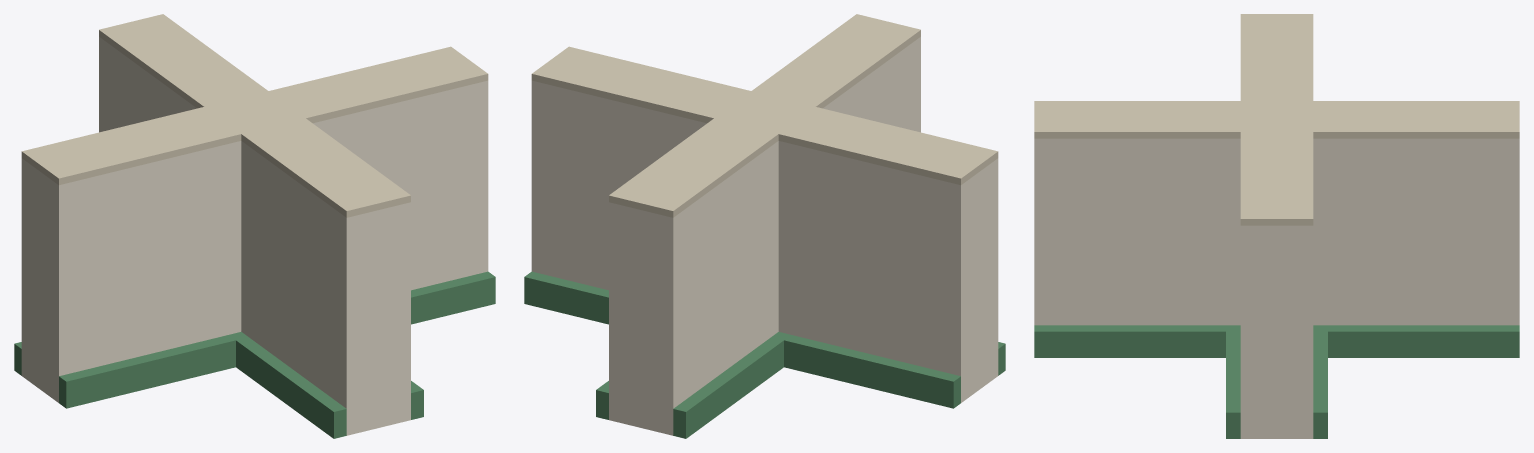
Rendered from partition-low-cross.glb.
3 views of the same model, side by side, from view 1: azimuth 30°, elevation 25°; view 2: azimuth 150°, elevation 25°; view 3: azimuth 270°, elevation 25° (orthographic). The views are drawn at different scales.
Visible parts, largest first — view 1: partition-low-cross; view 2: partition-low-cross; view 3: partition-low-cross.
Part boxes in pixels (<box>): partition-low-cross: <box>14,14,495,438</box>; partition-low-cross: <box>524,14,1005,438</box>; partition-low-cross: <box>1034,14,1519,438</box>.
Size of the model in its own units: 1 by 0.5 by 1.
1 material, 1 textured.
